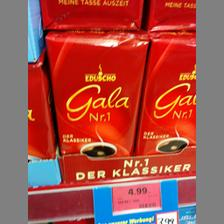Kaffee: (43, 28, 147, 156), (134, 31, 196, 153)
